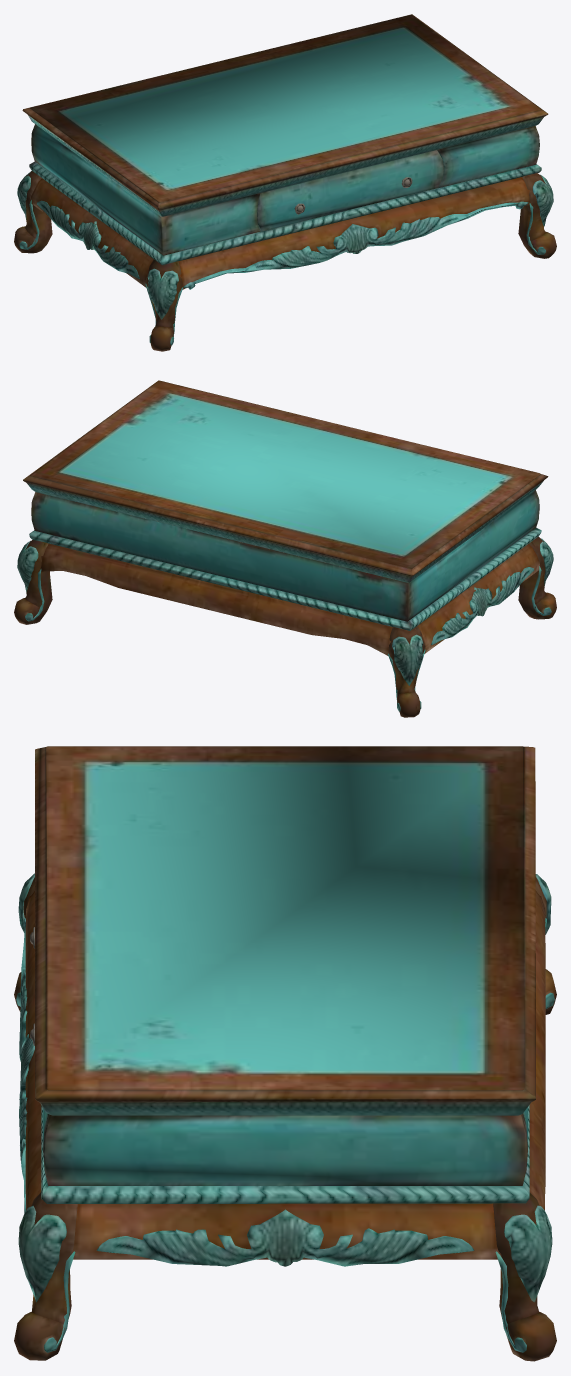
The model's file is hp_room_cc0_coffee_table.glb.
The picture shows the model from 3 angles, top to bottom: view 1: azimuth 30°, elevation 25°; view 2: azimuth 150°, elevation 25°; view 3: azimuth 270°, elevation 25°; orthographic projection. The views are drawn at different scales.
Parts seen in each view (by area): view 1: CoffeeTable_01; view 2: CoffeeTable_01; view 3: CoffeeTable_01.
Part boxes in pixels (x1,y1,x2,y2): CoffeeTable_01: [14, 14, 556, 351]; CoffeeTable_01: [14, 380, 556, 717]; CoffeeTable_01: [14, 746, 556, 1361].
Bounding box in the file's own units: 1.54 × 0.5232 × 0.9728.
1 material, 1 textured.
